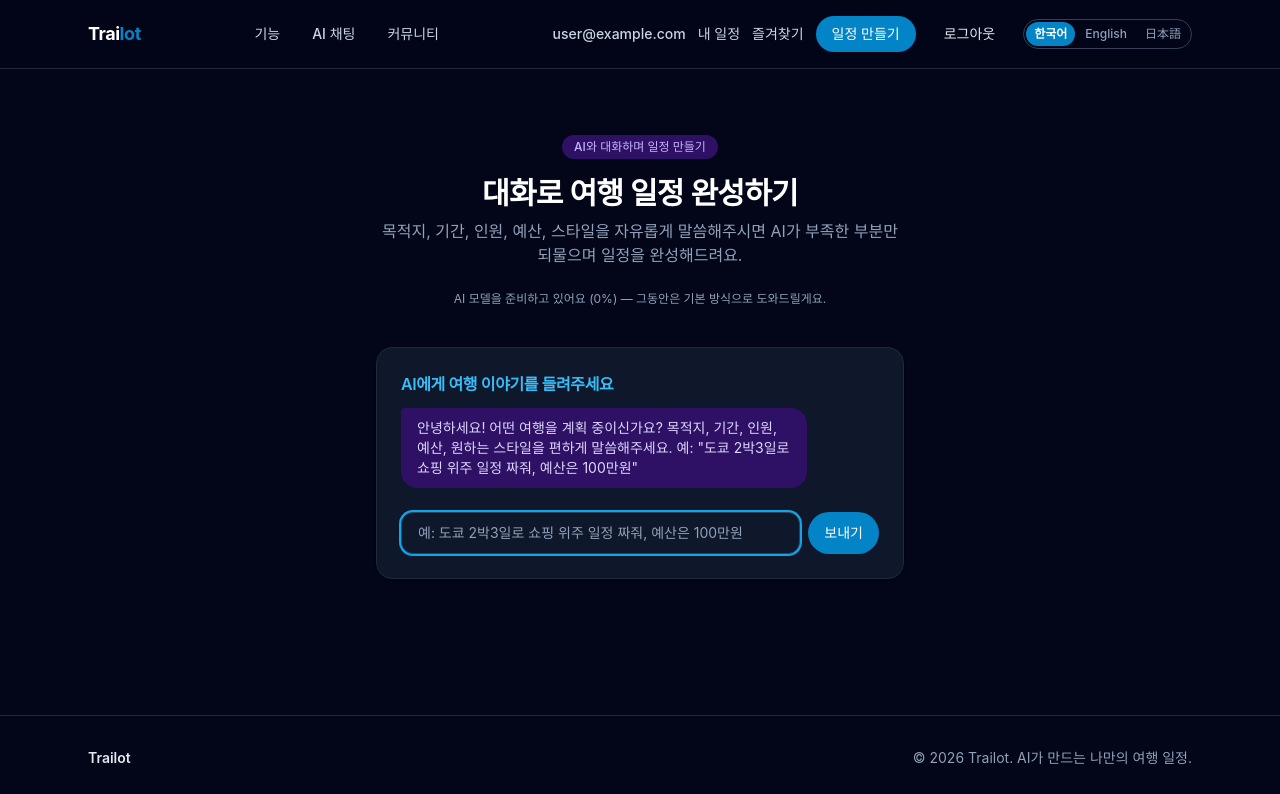
Test: PlanChatPage › tells the user their travel style wasn't recognized instead of silently repeating the same question
Type "도쿄 2박3일로 2명이서 예산은 각 50만원씩" into the field named "메시지 입력" at (601, 533), box left=401, top=512, right=800, bottom=554
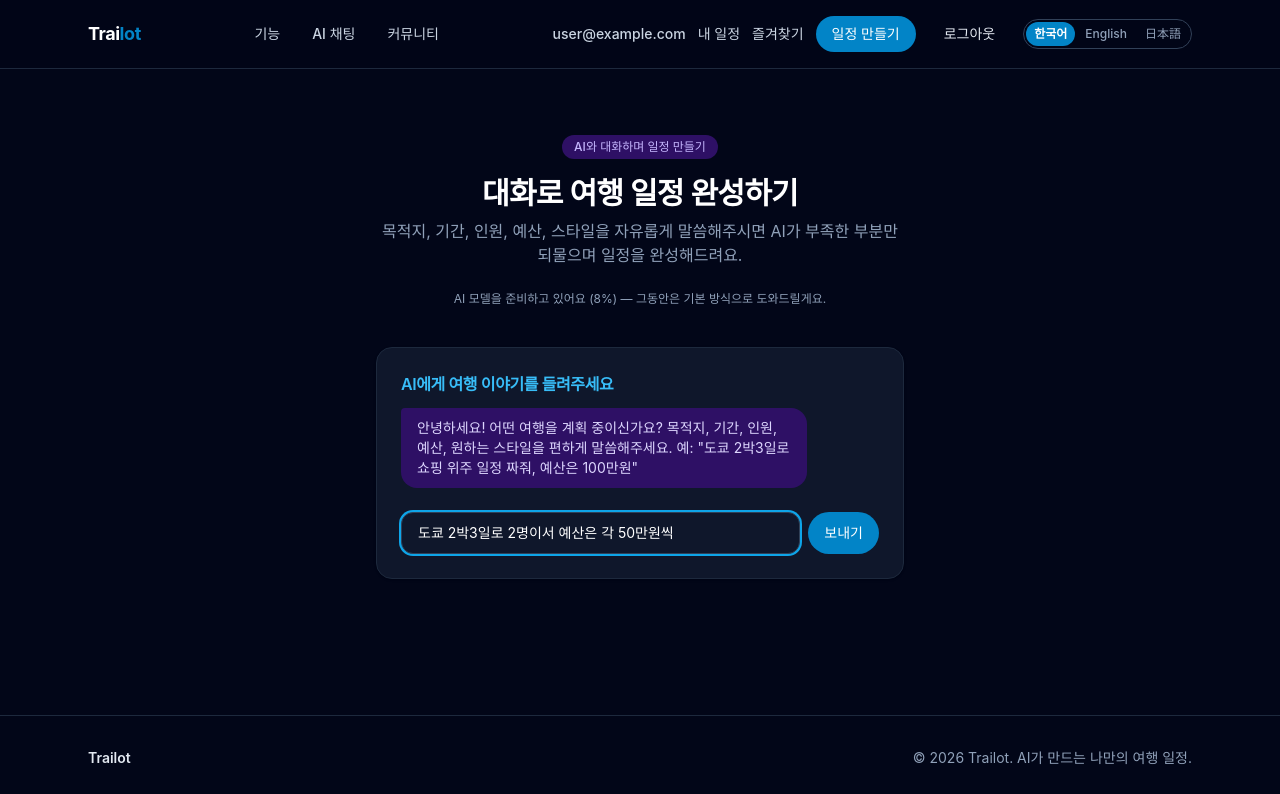
Click the button "보내기" at (844, 533), box left=808, top=512, right=879, bottom=554
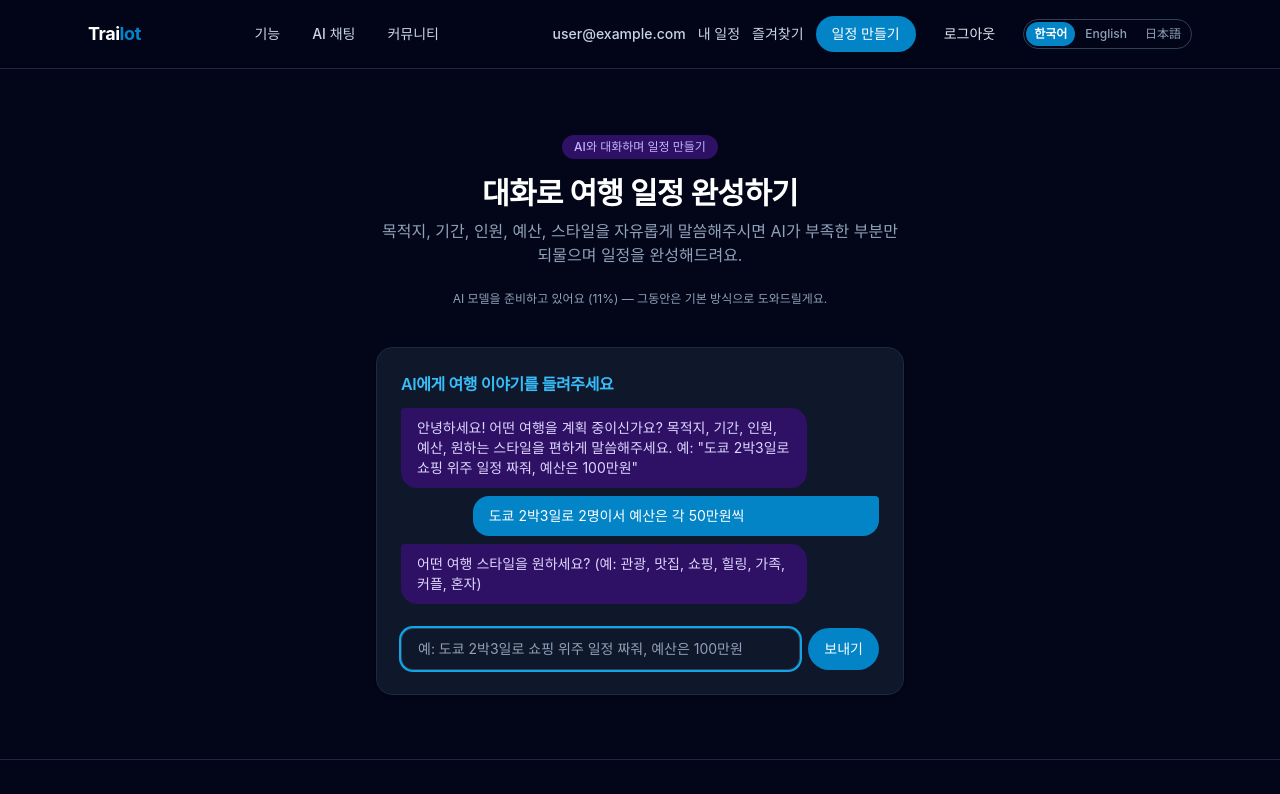
Check: the text "어떤 여행 스타일을 원하세요? (예: 관광, 맛집, 쇼핑, 힐링, 가족, 커플, 혼자)" is shown, box left=401, top=544, right=807, bottom=604
Type "액티비티 위주로" into the field named "메시지 입력" at (601, 649), box left=401, top=628, right=800, bottom=670
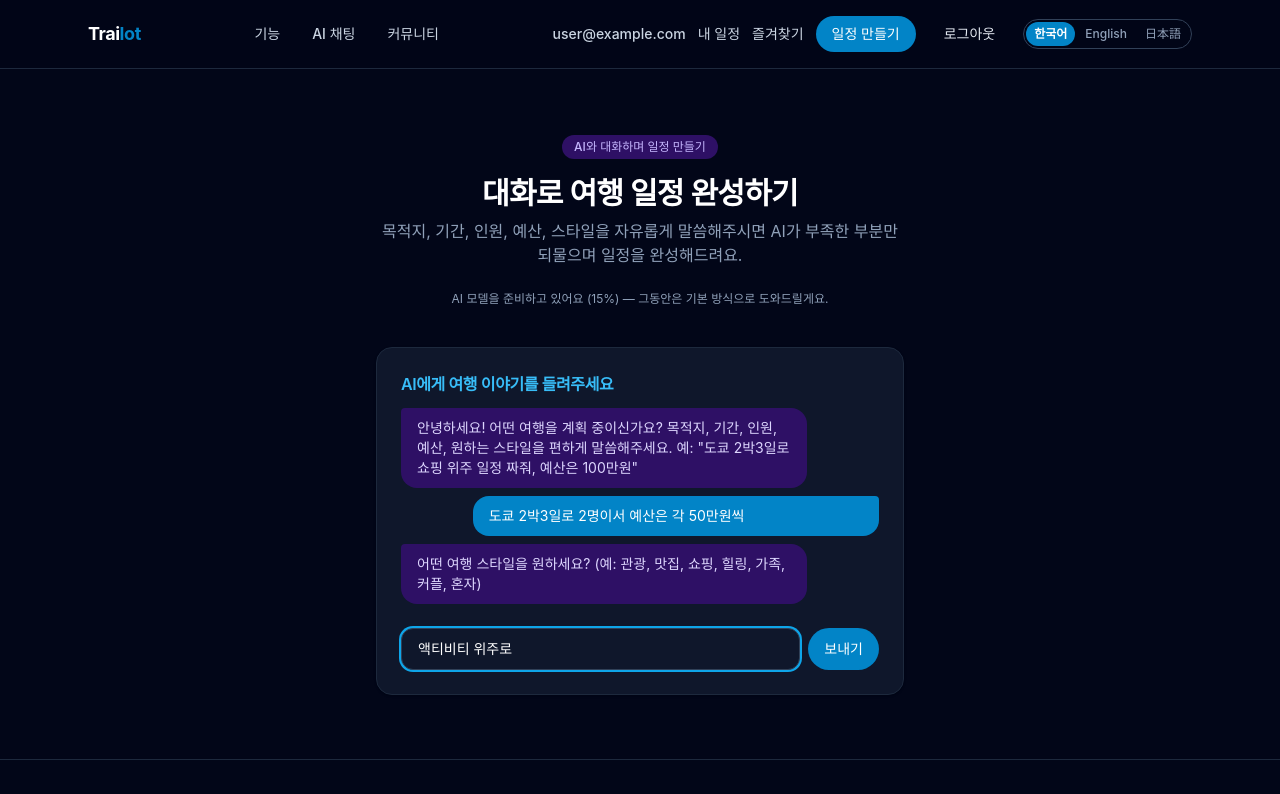
Click the button "보내기" at (844, 649), box left=808, top=628, right=879, bottom=670
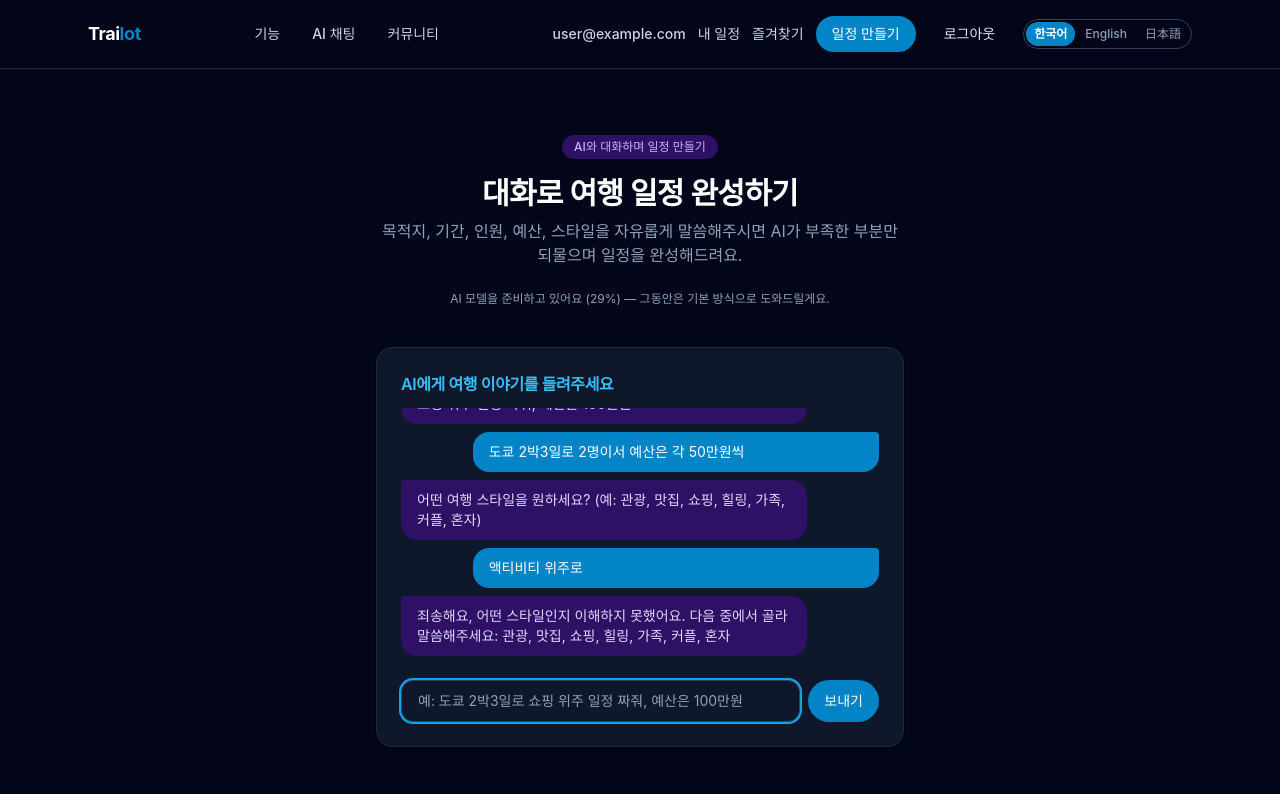
Check: the text "이해하지 못했어요" is shown, box left=417, top=607, right=788, bottom=644
